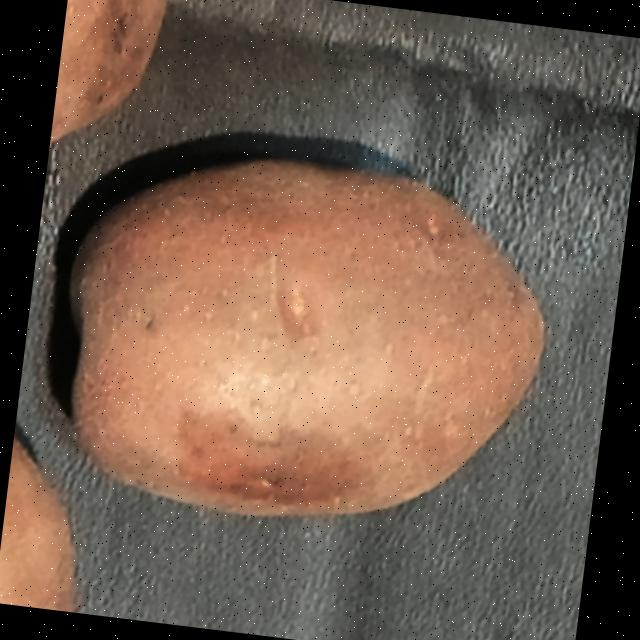Diseased-fungal potato: (32, 123, 569, 552)
